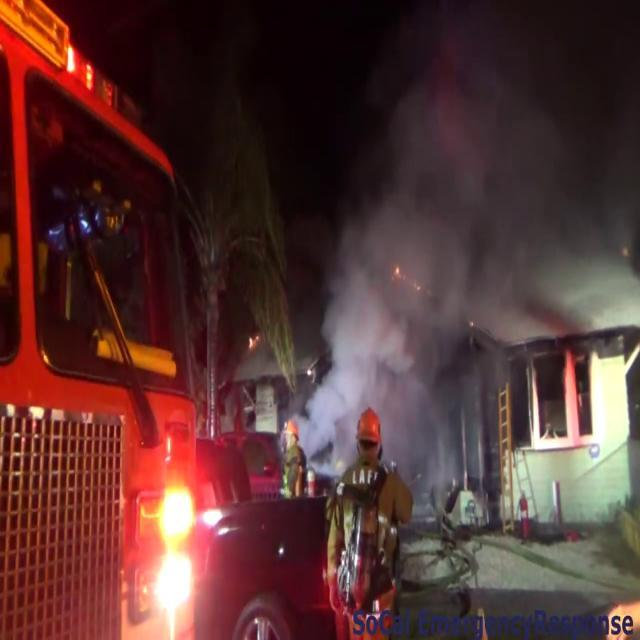Smoke: (306, 1, 640, 444)
